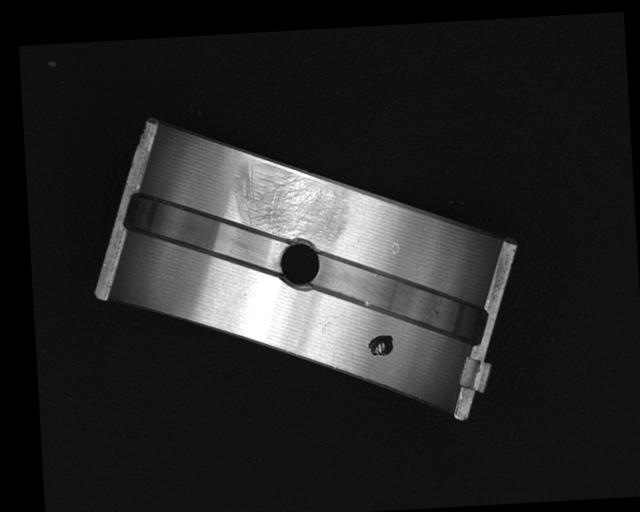blot: (366, 333, 395, 360)
bruise: (390, 240, 400, 257)
gap: (310, 243, 483, 348), (124, 186, 288, 278)
hole: (276, 238, 322, 291)
scratch: (231, 154, 347, 248)
